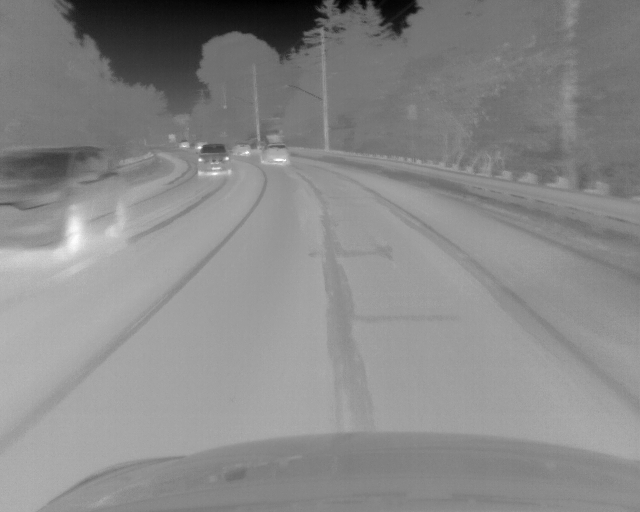car: (3, 146, 128, 259), (196, 143, 232, 176), (260, 143, 290, 167), (231, 142, 250, 157), (177, 141, 190, 149)
